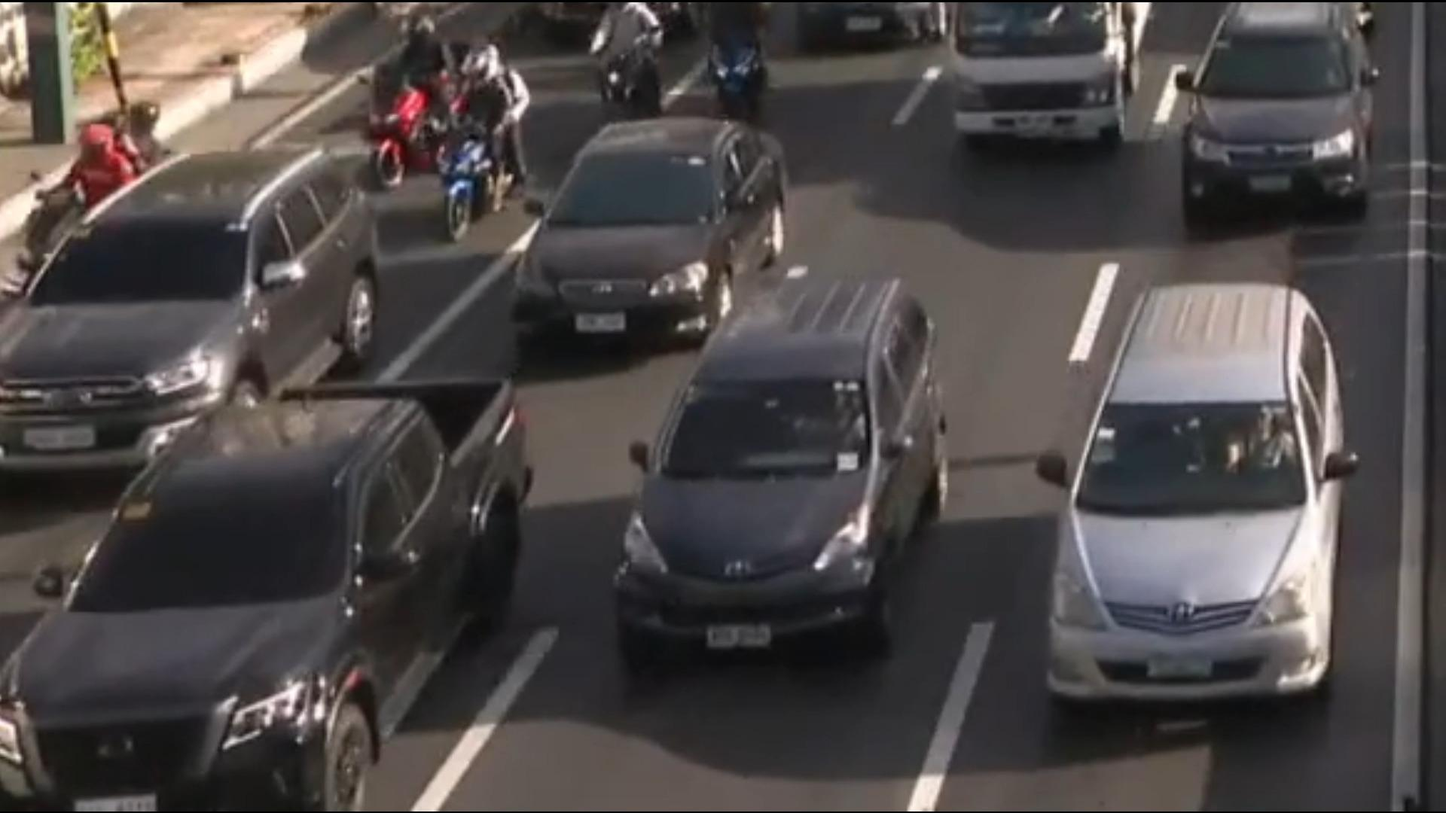Motorcycle: (0, 97, 182, 298), (429, 42, 530, 233), (363, 18, 454, 182), (690, 0, 771, 125), (589, 1, 668, 126)
Pickup: (0, 373, 530, 812)
SUV: (1041, 283, 1352, 703), (615, 272, 947, 652), (0, 144, 375, 472), (1171, 0, 1380, 222)
Sedan: (511, 123, 793, 340)
Truck: (942, 1, 1144, 148)
